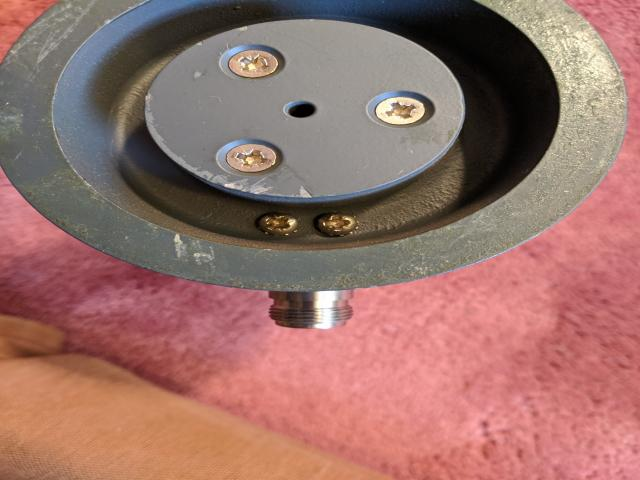CRS: (224, 50, 285, 79), (375, 97, 429, 124), (227, 143, 276, 171), (314, 210, 360, 238), (258, 211, 300, 238)
